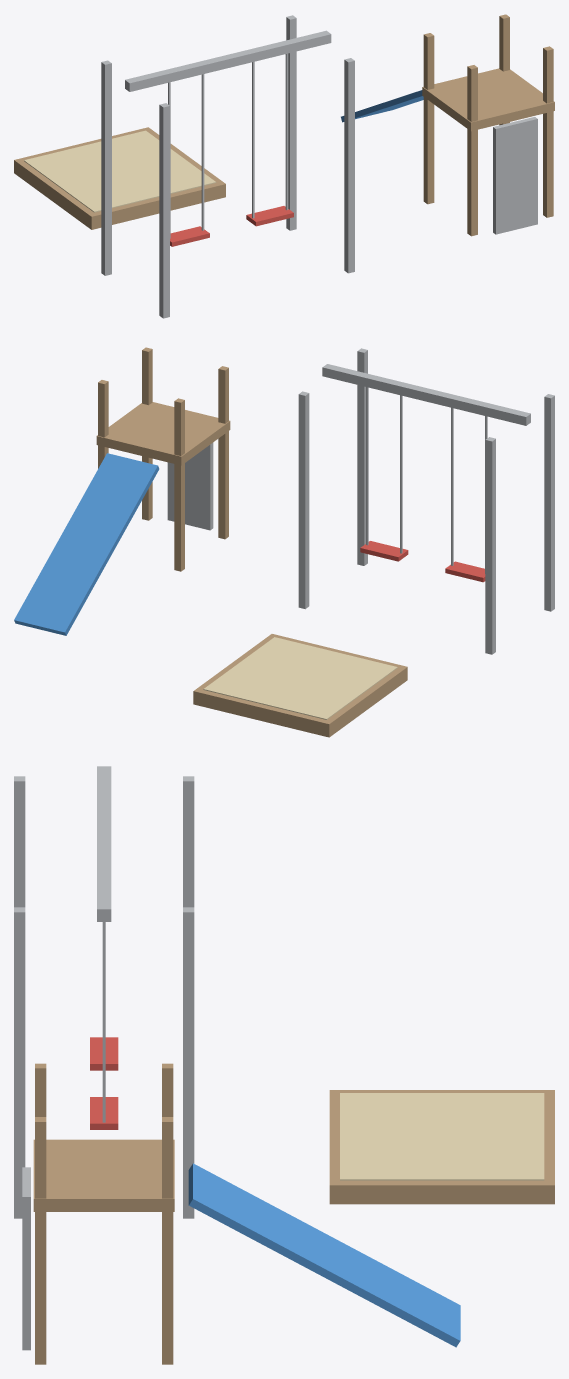
The model's file is playground.glb.
3 views of the same model, one above another, from view 1: azimuth 30°, elevation 25°; view 2: azimuth 150°, elevation 25°; view 3: azimuth 270°, elevation 25° (orthographic). The views are drawn at different scales.
Visible parts, largest first — view 1: sand, ladder, deck, sandbox, beam, leg-2.40.6, leg-0.2-0.6, leg-2.4-0.6, post-0.450.45, leg-0.20.6, post-0.45-0.45, post0.45-0.45 (+7 smaller); view 2: slide, sand, sandbox, deck, beam, ladder, leg-0.20.6, leg-2.40.6, leg-2.4-0.6, leg-0.2-0.6, post-0.450.45, post-0.45-0.45 (+4 smaller); view 3: sand, slide, deck, sandbox, leg-0.2-0.6, leg-0.20.6, post0.45-0.45, post0.450.45, beam, ladder, leg-2.4-0.6, leg-2.40.6 (+3 smaller).
Part boxes in pixels (x1,y1,x2,y2): sand: [24, 130, 216, 212]; ladder: [493, 117, 537, 234]; deck: [422, 68, 554, 131]; sandbox: [14, 127, 225, 229]; beam: [125, 30, 331, 91]; leg-2.40.6: [101, 60, 111, 275]; leg-0.2-0.6: [344, 58, 354, 273]; leg-2.4-0.6: [159, 103, 169, 318]; post-0.450.45: [423, 33, 434, 204]; leg-0.20.6: [286, 15, 296, 230]; post-0.45-0.45: [467, 65, 477, 236]; post0.45-0.45: [543, 46, 553, 217]; slide: [14, 453, 159, 635]; sand: [203, 637, 397, 719]; sandbox: [193, 634, 407, 737]; deck: [96, 402, 230, 465]; beam: [322, 364, 530, 425]; ladder: [167, 442, 213, 530]; leg-0.20.6: [298, 391, 309, 609]; leg-2.40.6: [485, 437, 495, 654]; leg-2.4-0.6: [544, 394, 554, 611]; leg-0.2-0.6: [357, 348, 367, 565]; post-0.450.45: [174, 398, 184, 571]; post-0.45-0.45: [218, 366, 228, 539]; sand: [340, 1093, 544, 1180]; slide: [188, 1163, 460, 1347]; deck: [33, 1139, 174, 1211]; sandbox: [329, 1090, 554, 1204]; leg-0.2-0.6: [14, 907, 25, 1218]; leg-0.20.6: [183, 907, 194, 1218]; post0.45-0.45: [35, 1117, 46, 1364]; post0.450.45: [162, 1117, 173, 1364]; beam: [97, 766, 111, 921]; ladder: [22, 1167, 30, 1350]; leg-2.4-0.6: [14, 776, 25, 907]; leg-2.40.6: [183, 776, 194, 907].
Bounding box in the file's own units: 4.8 × 2.45 × 3.84.
